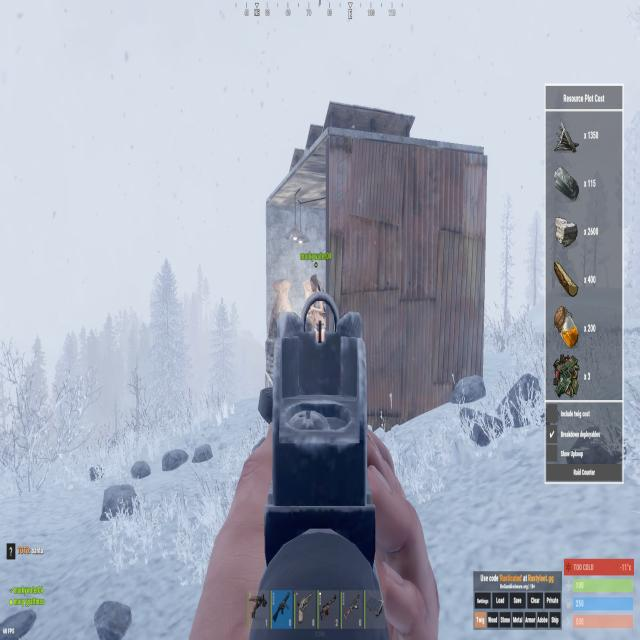Player: (309, 270, 328, 344)
